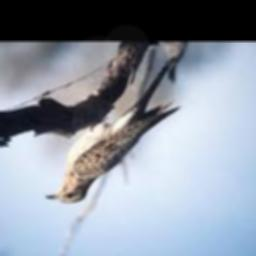Cuckoo: (46, 58, 180, 203)
